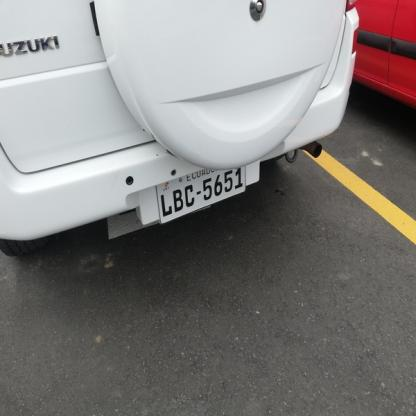Placa: (150, 161, 256, 225)
